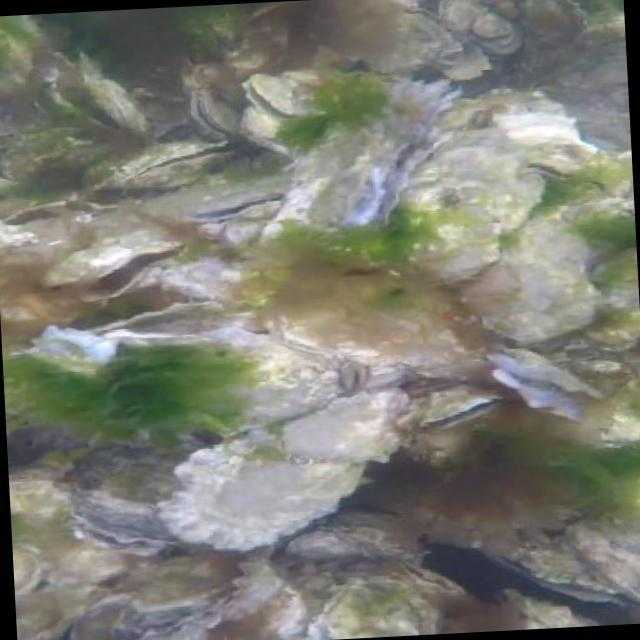Oyster- Indeterminate: (140, 415, 361, 552), (475, 256, 603, 351), (282, 384, 418, 470), (393, 183, 512, 280), (312, 569, 443, 640), (272, 502, 392, 572), (363, 19, 466, 85), (473, 6, 532, 64), (440, 33, 494, 93), (521, 0, 581, 43), (432, 0, 482, 38)
Oyster-Open: (44, 492, 198, 583), (477, 528, 627, 610), (32, 219, 166, 305), (499, 334, 613, 430), (99, 140, 253, 188), (417, 376, 497, 462), (48, 68, 144, 136), (0, 183, 109, 236), (186, 186, 298, 236), (239, 62, 306, 137), (174, 85, 256, 146), (515, 146, 596, 199), (400, 559, 480, 606)
